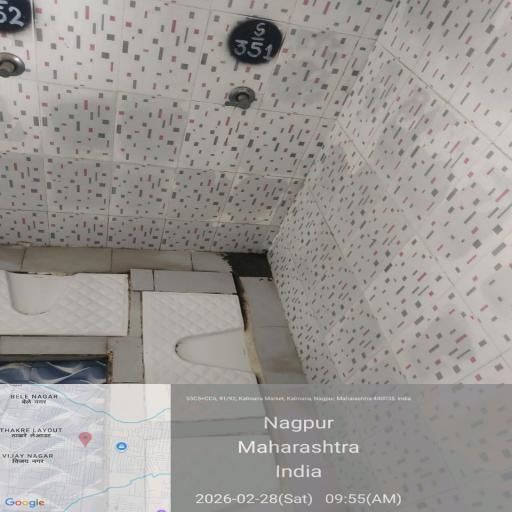clean_floor: (20, 24, 475, 271)
clean_urinal: (16, 251, 314, 452)
